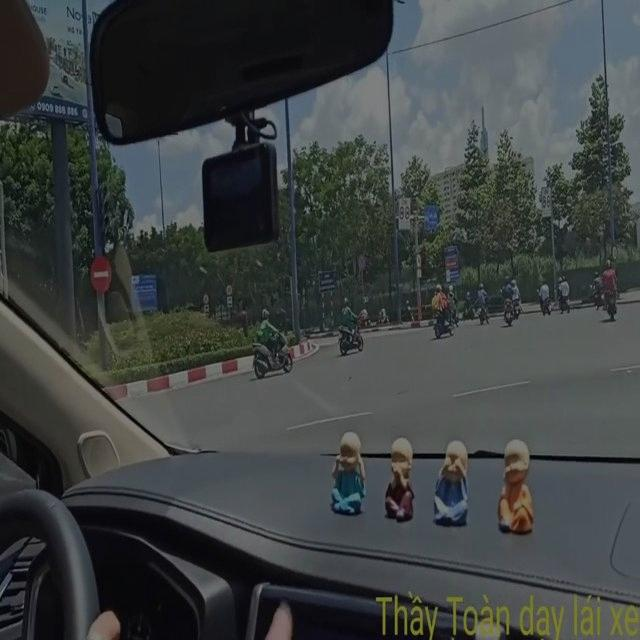Cấm các phương tiện hoạt động trong khung giờ cố định: (397, 190, 412, 231), (539, 185, 553, 217)
Cấm dừng - Cấm đỗ: (355, 251, 366, 269)
Cấm xe máy: (414, 252, 423, 268)
Cấm đi ngược chiều: (90, 253, 111, 296)
Giới hạn tốc độ: 60Km/h: (199, 290, 208, 303)
Giới hạn tốc độ: 80Km/h: (225, 278, 232, 294)
Khác: (127, 278, 159, 312), (440, 244, 464, 286), (316, 263, 333, 291)
Làn đường cho từng xe: (423, 201, 438, 231)
